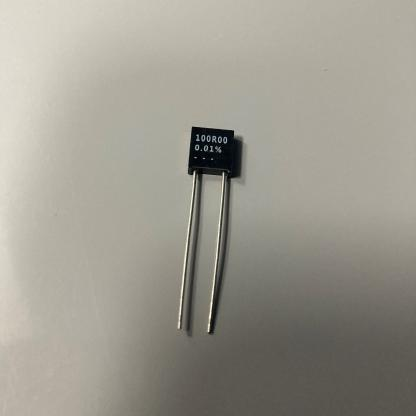SP0000007: (108, 59, 305, 368)
